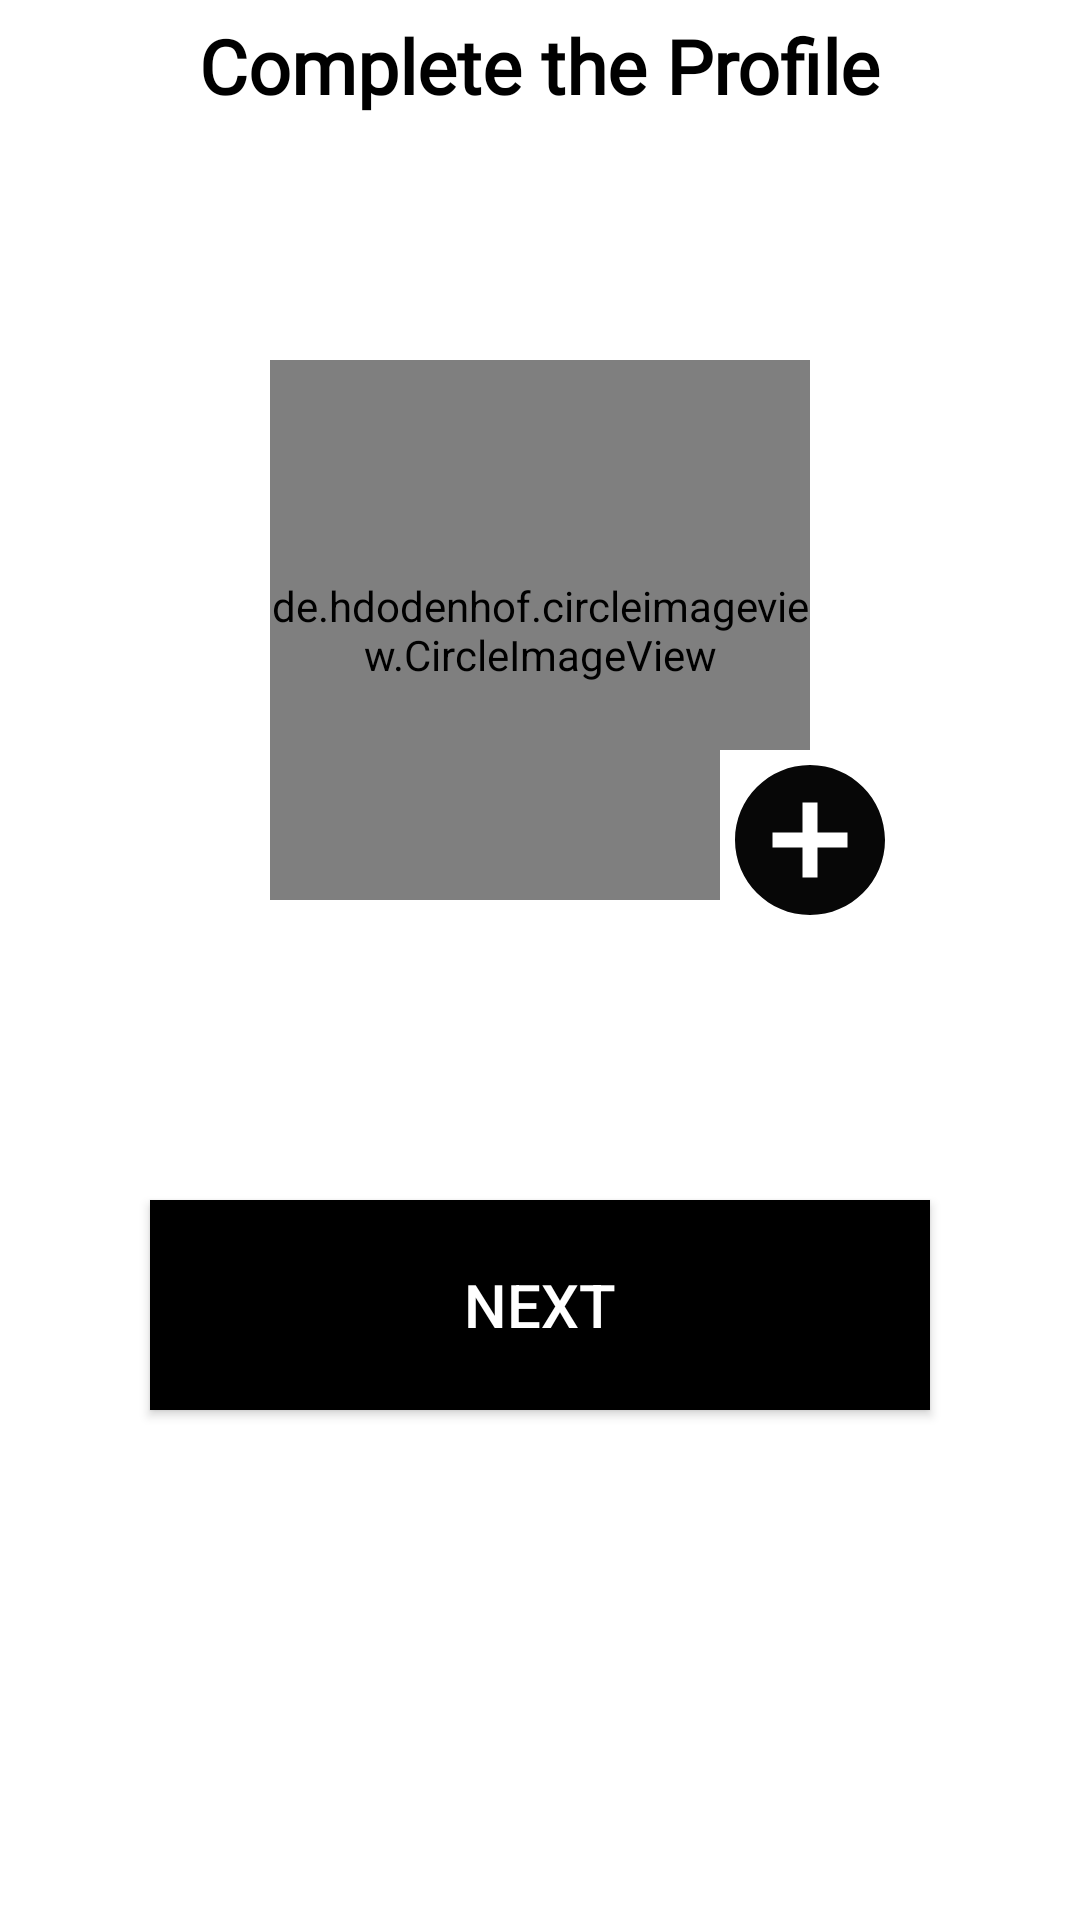

Point at icon controls on the screen. Image size 1080 × 1920, points as [x,y].
add circle: [810,840]
